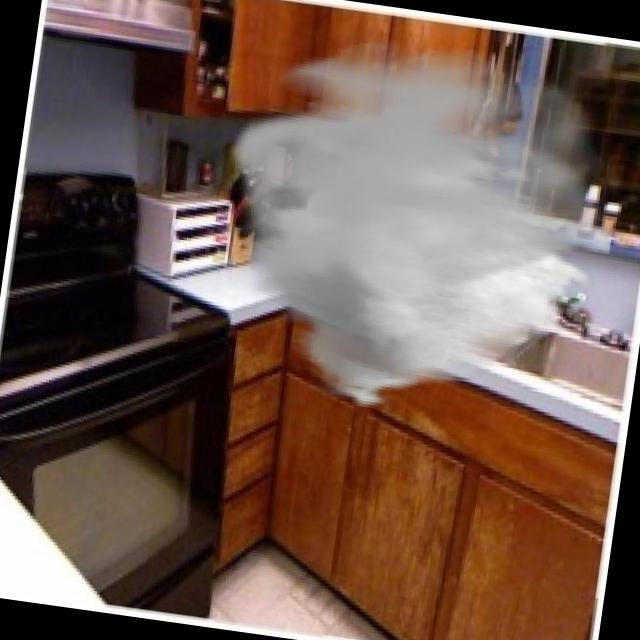Smoke: (193, 18, 635, 441)
